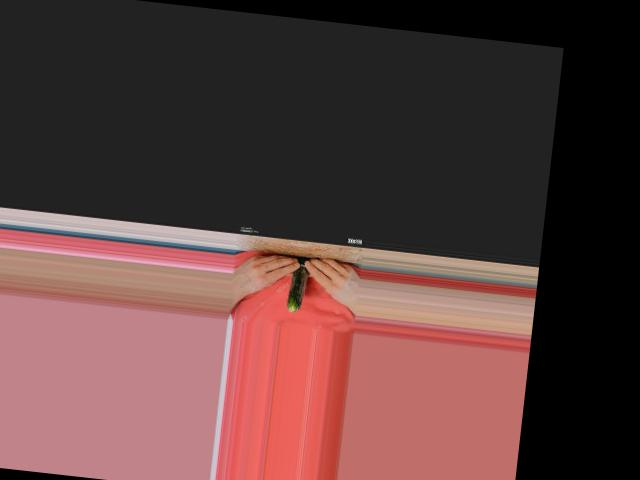cucumber: (285, 255, 309, 312)
